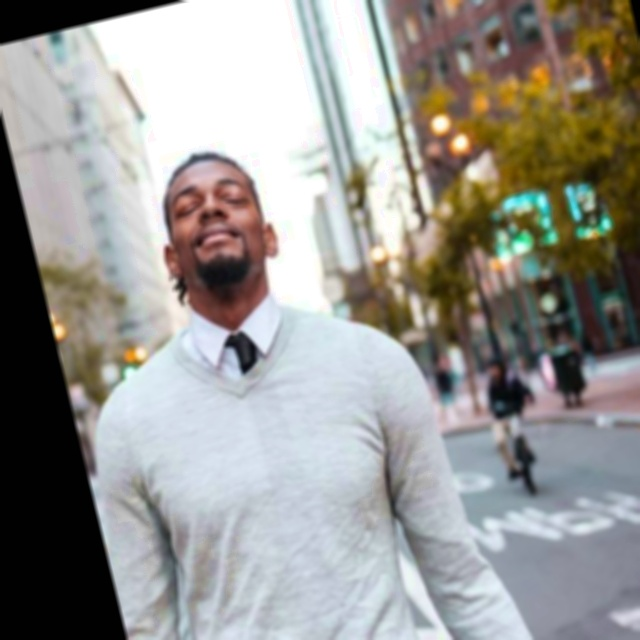Sin_Casco_Mascarrilla: (140, 138, 290, 316)
Sin_Chaleco: (67, 288, 484, 640), (276, 399, 283, 408)
